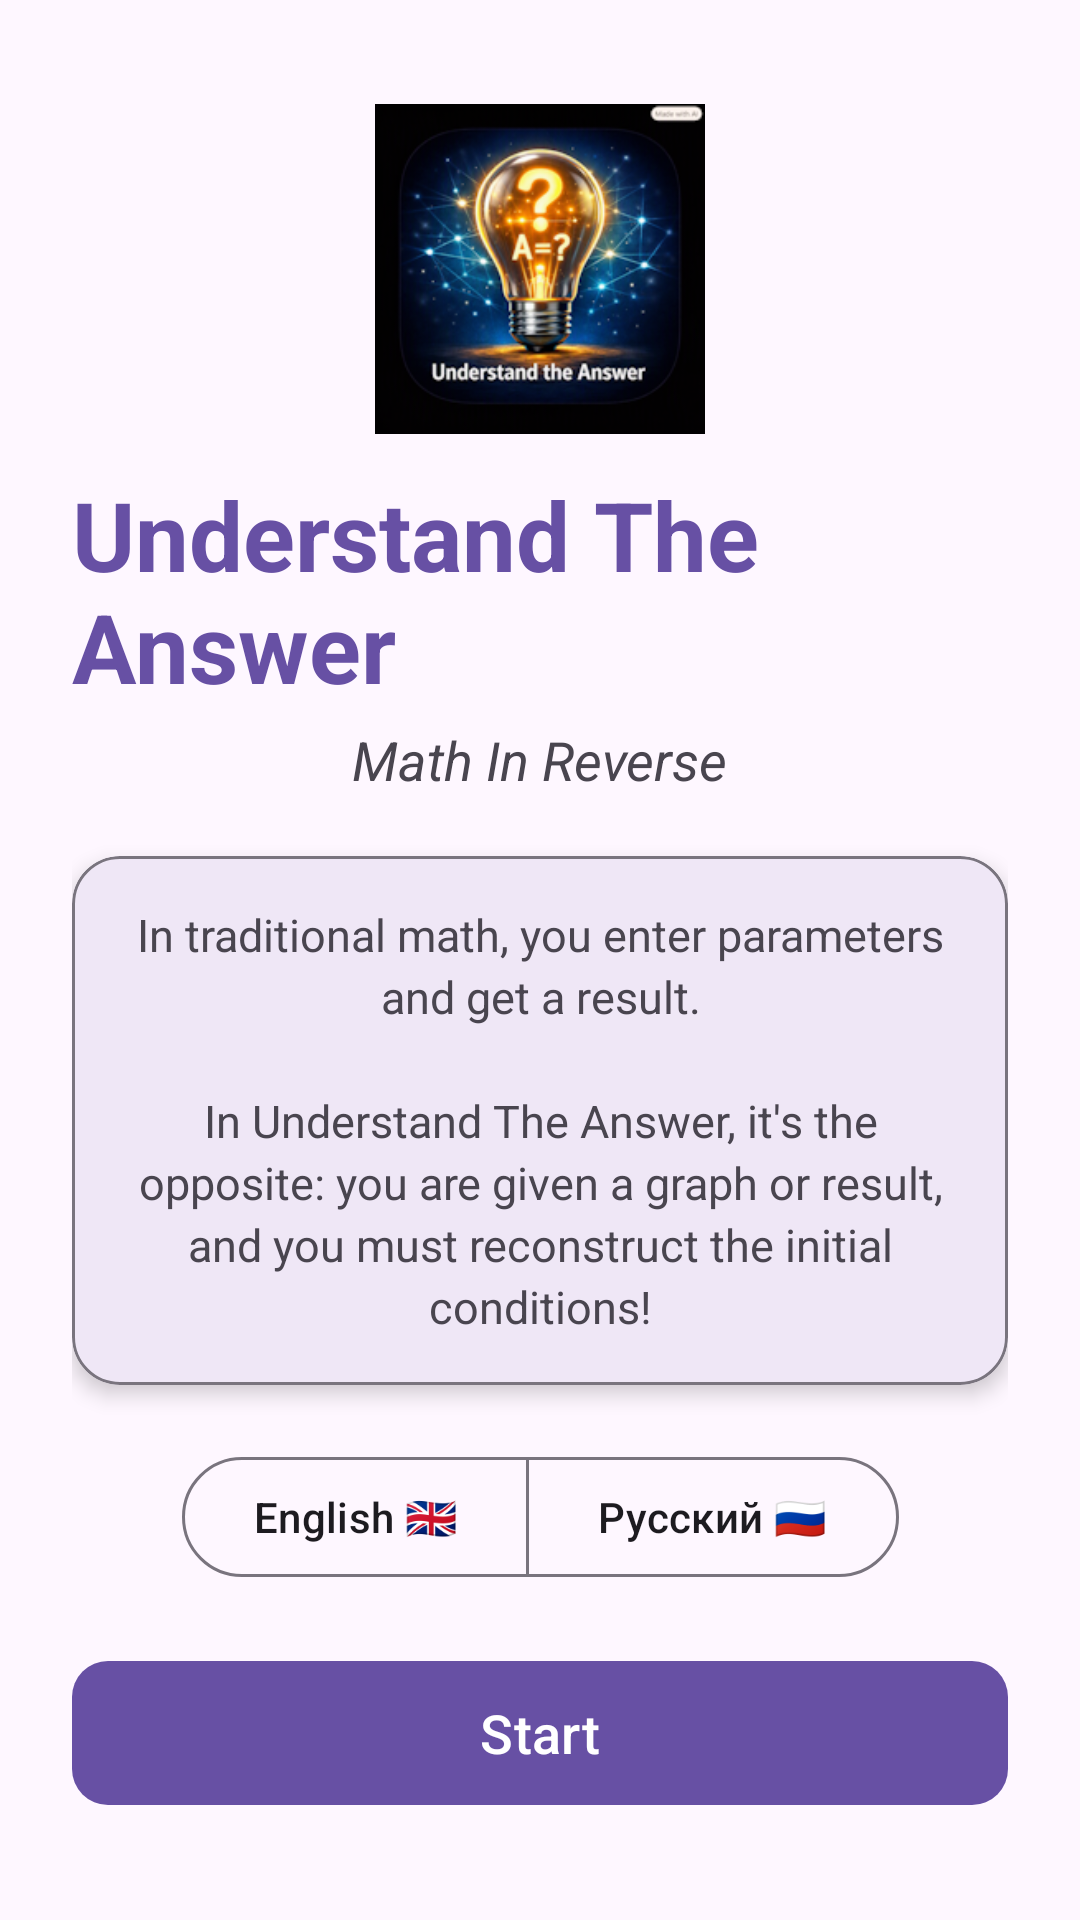

Named icons in this screenshot (1080*1920) and their centers, (x,y):
app: (540,269)
